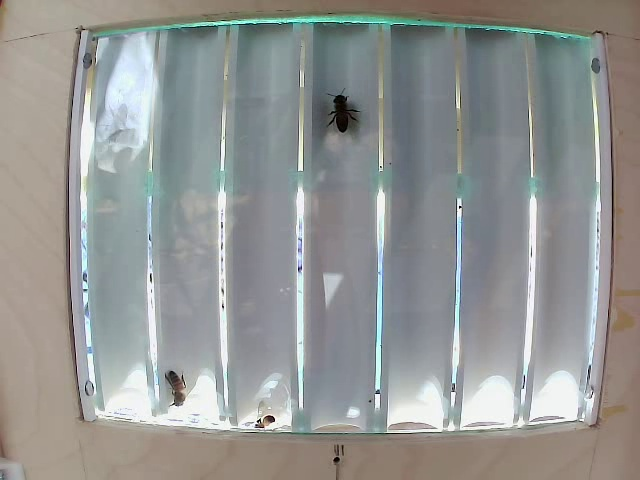bee: (321, 83, 374, 147)
